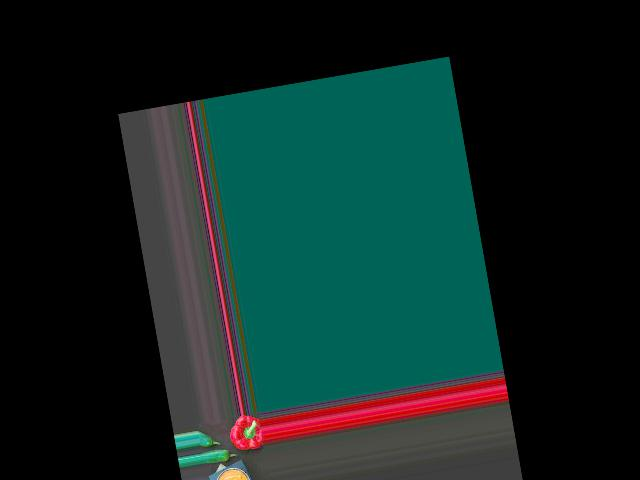bell_pepper: (228, 414, 264, 452)
